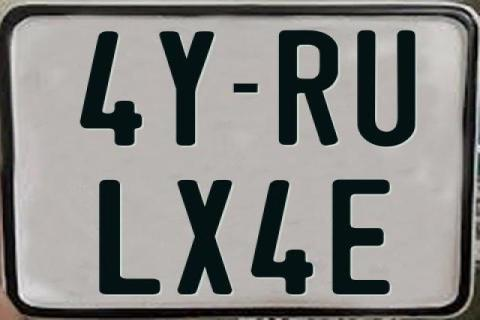0: (79, 29, 144, 145), (248, 180, 313, 294)
E: (330, 179, 392, 295)
L: (99, 180, 164, 295)
R: (277, 28, 342, 144)
U: (355, 29, 419, 147)
X: (177, 180, 235, 299)
Y: (158, 31, 214, 149)
